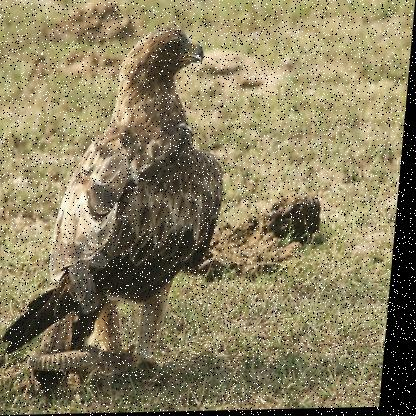Burung: (9, 33, 240, 380)
